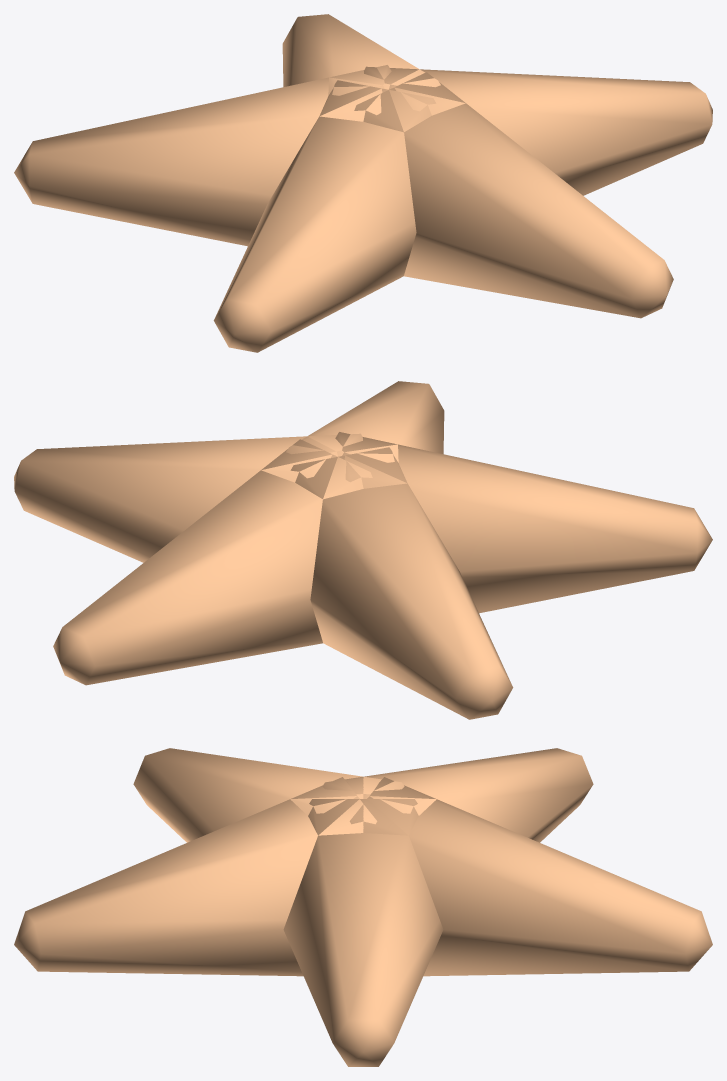
File: item_starfish.glb
3 views of the same model, one above another, from view 1: azimuth 30°, elevation 25°; view 2: azimuth 150°, elevation 25°; view 3: azimuth 270°, elevation 25° (orthographic). The views are drawn at different scales.
Parts seen in each view (by area): view 1: item_starfish; view 2: item_starfish; view 3: item_starfish.
Part boxes in pixels (x1,y1,x2,y2): item_starfish: (14, 14, 712, 352); item_starfish: (14, 381, 712, 719); item_starfish: (14, 748, 712, 1066).
Size of the model in its own units: 0.3253 by 0.0865 by 0.3404.
